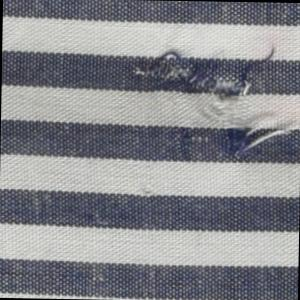Damage: (123, 42, 297, 170)
